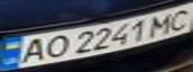1: (127, 17, 154, 43)
2: (90, 25, 115, 52), (72, 28, 96, 56)
4: (112, 20, 133, 47)
A: (15, 36, 51, 65)
C: (160, 6, 193, 33)
M: (142, 11, 178, 38)
O: (39, 33, 72, 61)
